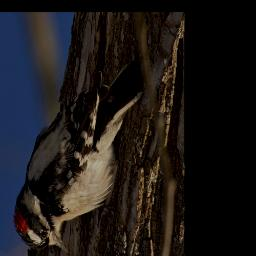Woodpecker: (13, 57, 144, 254)
